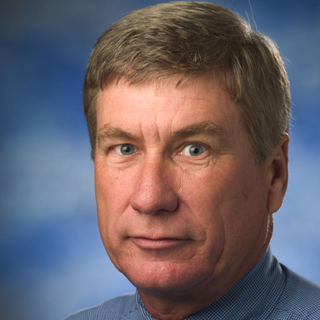eye: (167, 138, 220, 164), (95, 138, 147, 164)
